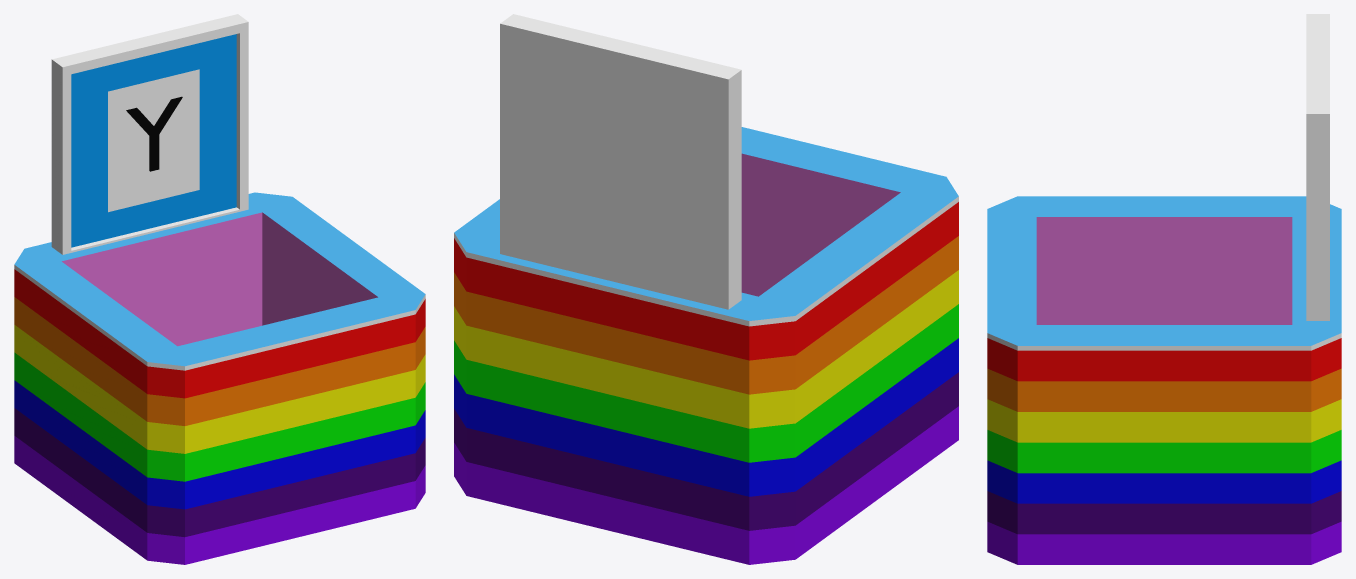
3 renders of one model, left to right at view 1: azimuth 30°, elevation 25°; view 2: azimuth 150°, elevation 25°; view 3: azimuth 270°, elevation 25°, orthographic. The views are drawn at different scales.
Parts seen in each view (by area): view 1: Cube.001, Text; view 2: Cube.001; view 3: Cube.001.
Part boxes in pixels (bbox=[...]): Cube.001: bbox=[14, 14, 425, 564]; Text: bbox=[126, 96, 182, 171]; Cube.001: bbox=[454, 14, 958, 564]; Cube.001: bbox=[987, 14, 1341, 564].
Bounding box in the file's own units: 383 × 508 × 383.
